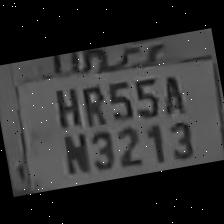1: (137, 116, 168, 167)
2: (110, 118, 146, 170)
3: (82, 122, 118, 174), (160, 113, 196, 164)
5: (126, 70, 162, 122), (100, 76, 136, 124)
A: (155, 69, 188, 118)
H: (48, 80, 85, 134)
N: (56, 123, 92, 177)
R: (74, 79, 108, 128)
